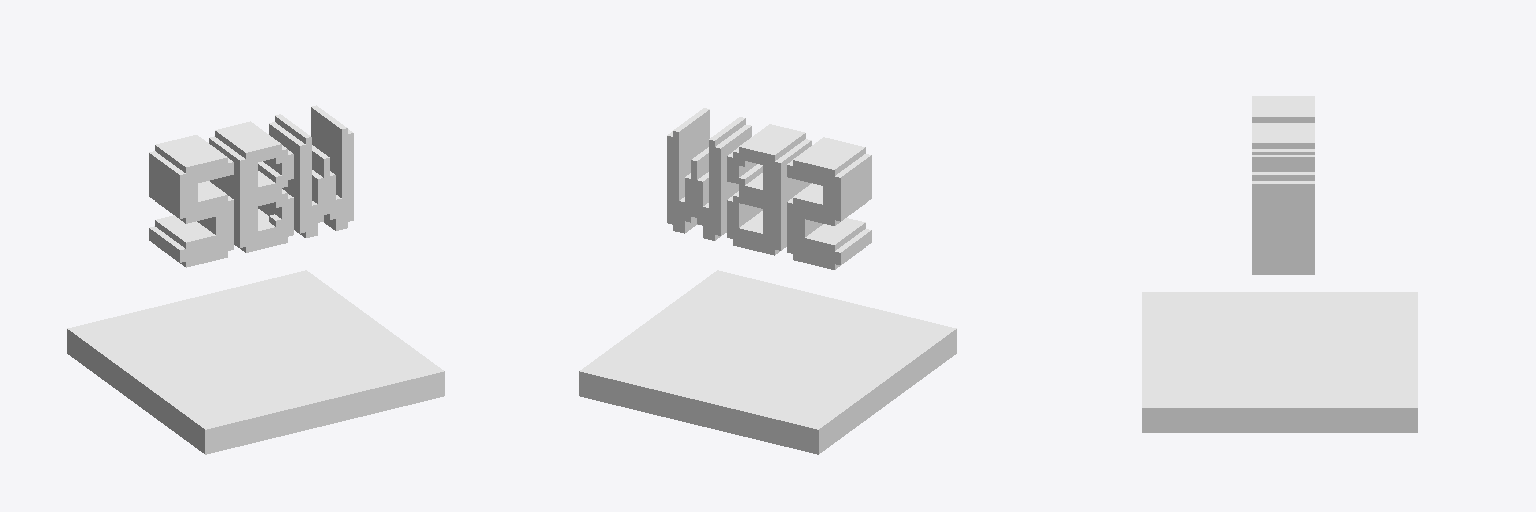
Rendered from hiro.obj.
3 renders of one model, left to right at view 1: azimuth 30°, elevation 25°; view 2: azimuth 150°, elevation 25°; view 3: azimuth 270°, elevation 25°, orthographic.
Visible parts, largest first — view 1: hiro; view 2: hiro; view 3: hiro.
Boxes of the visible parts, x1=… form: hiro: x1=67, y1=105, x2=444, y2=454; hiro: x1=579, y1=108, x2=956, y2=454; hiro: x1=1142, y1=96, x2=1417, y2=432.
Size of the model in its own units: 40 by 38 by 40.